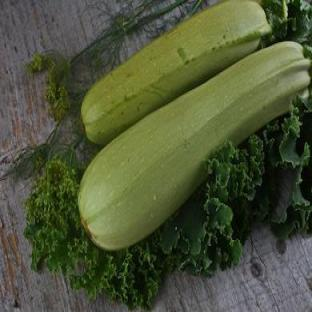Zucchini: (79, 42, 310, 249)
